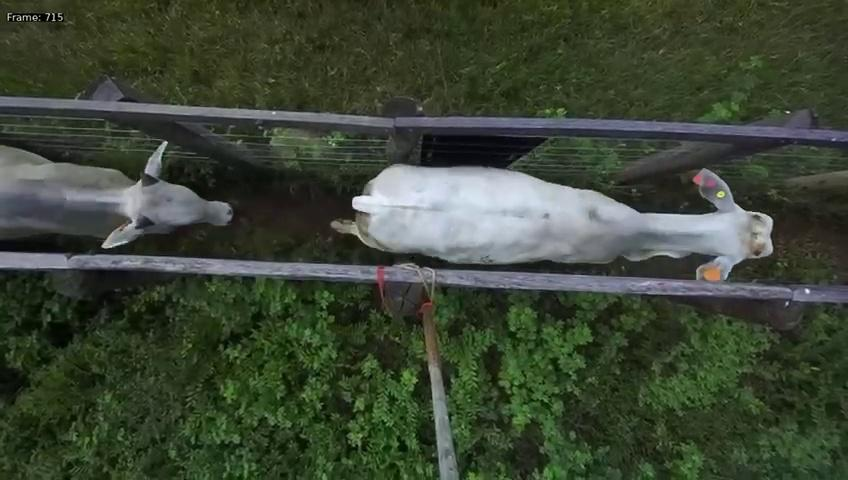cattle: (334, 162, 776, 281), (1, 138, 232, 251)
